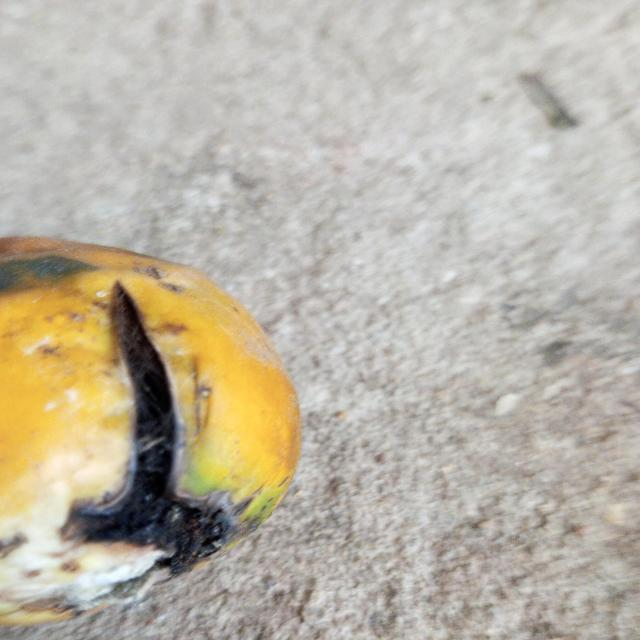damaged: (0, 236, 303, 631)
